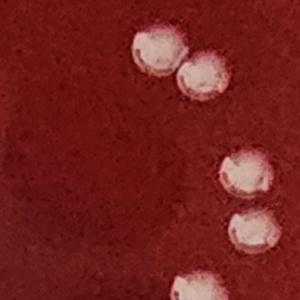colony: (127, 18, 196, 83), (214, 140, 281, 200), (173, 47, 237, 107), (226, 206, 288, 261), (164, 266, 234, 300)
